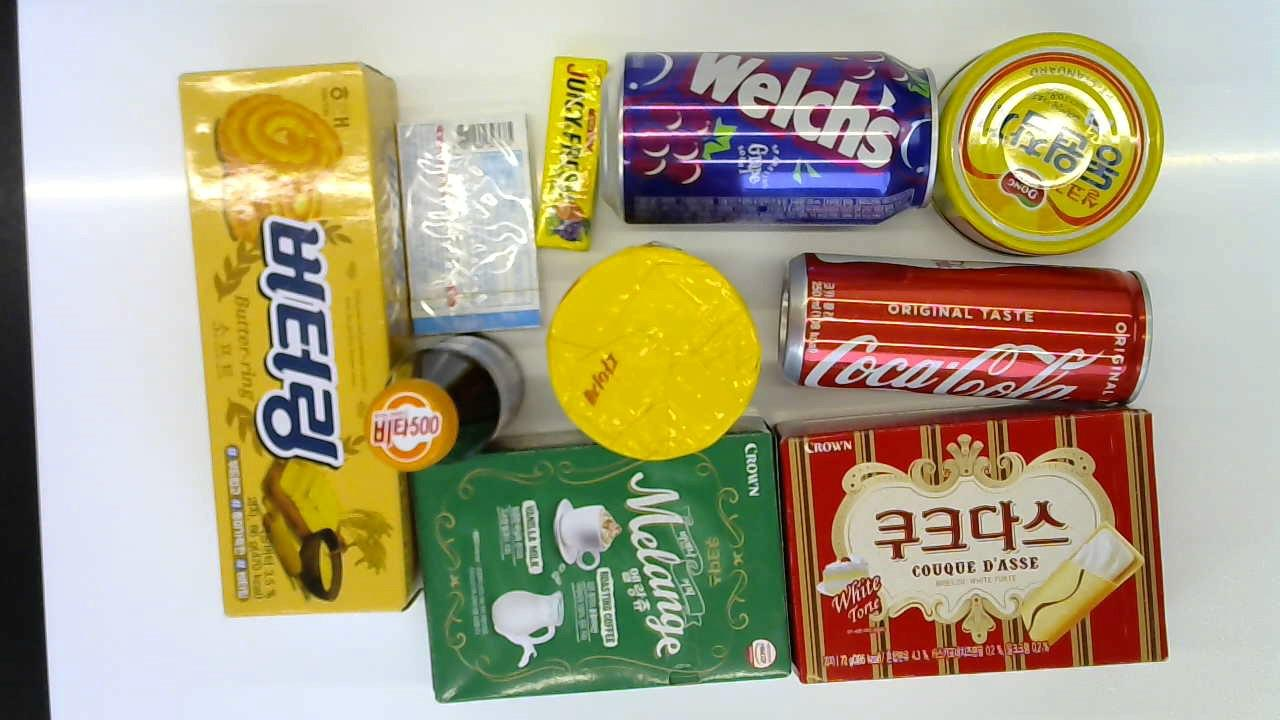ID_gum: (391, 110, 547, 339)
buttering: (171, 48, 420, 626)
coke: (775, 239, 1168, 409)
couque_coffee: (406, 410, 797, 705)
couque_white: (769, 389, 1173, 685)
diget_ori: (540, 248, 761, 461)
juicyfresh: (527, 52, 611, 256)
spearmint: (769, 389, 1173, 685)
tuna: (924, 30, 1172, 264)
vita500: (358, 324, 530, 473)
welchs: (611, 38, 945, 236)
